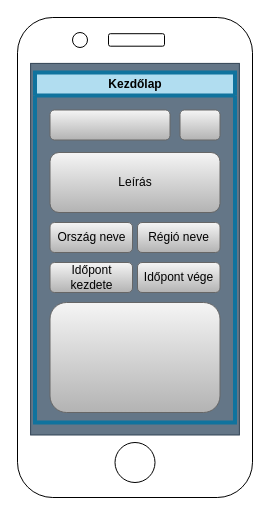
The diagram is 270 pixels wide and 515 high, and some of its shapes have lost their labels. The shapes that lost their labels are listed below. From the top down, each one's box as (x1, y1, x2, y2) in pixels, then its label:
(49, 109, 170, 140): Logo / Oldalnév
(179, 109, 220, 140): Menü
(49, 302, 220, 412): Eredmény
